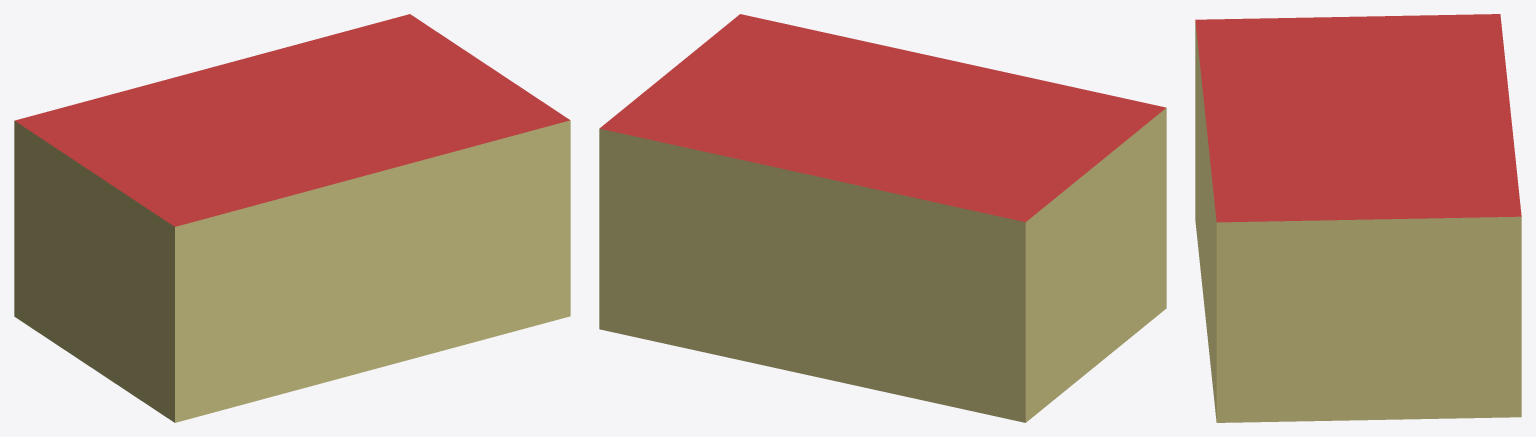
3 views of the same model, side by side, from view 1: azimuth 30°, elevation 25°; view 2: azimuth 150°, elevation 25°; view 3: azimuth 270°, elevation 25° (orthographic). The views are drawn at different scales.
Bounding box in the file's own units: 16.64 × 11.01 × 7.46.
